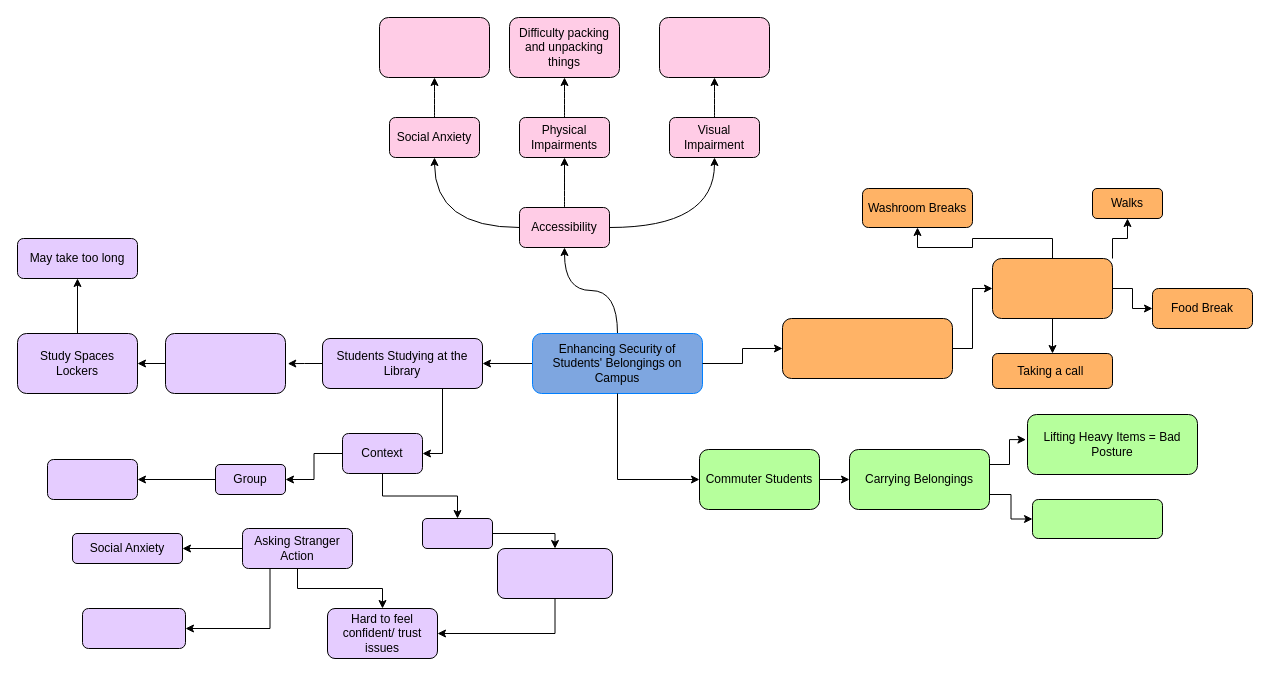
This 1270x676 diagram has some shape labels left out. The shapes that lost their labels are listed below. From the top down, each one's box as (x1, y1, x2, y2) in pixels, then its label:
(378, 16, 490, 78): Can't ask strangers around you to watch your stuff
(658, 16, 770, 78): Difficulty using existing solutions like lockers
(992, 258, 1112, 318): Need to take breaks
(164, 332, 286, 394): Safety during study sessions
(782, 318, 952, 378): Students Staying on Campus all day
(46, 458, 138, 500): Taking a walk together
(422, 518, 492, 548): Alone
(1032, 498, 1162, 538): Inconvenience
(496, 548, 612, 598): Leaving things unattended
(82, 608, 186, 648): Automate It??
